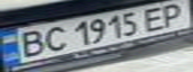1: (69, 18, 90, 46), (106, 12, 127, 39)
5: (118, 9, 145, 37)
9: (87, 16, 109, 44)
B: (12, 27, 51, 58)
C: (36, 24, 69, 53)
E: (136, 3, 175, 33)
P: (154, 1, 193, 28)
